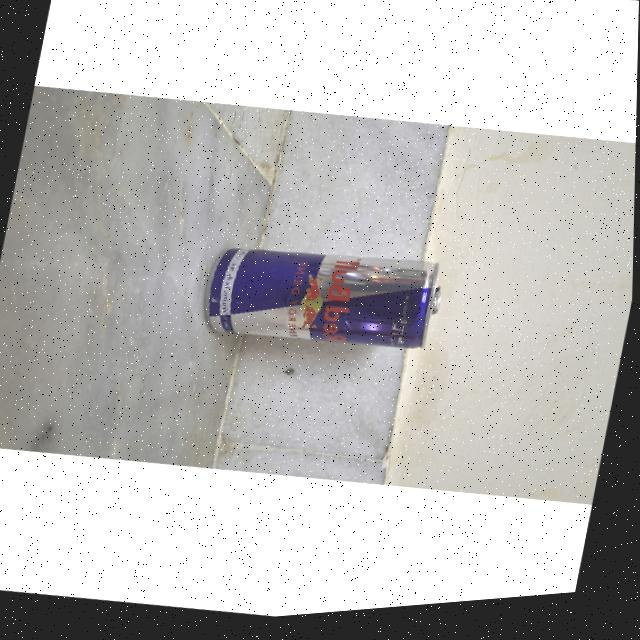Redbull: (180, 205, 459, 397)
